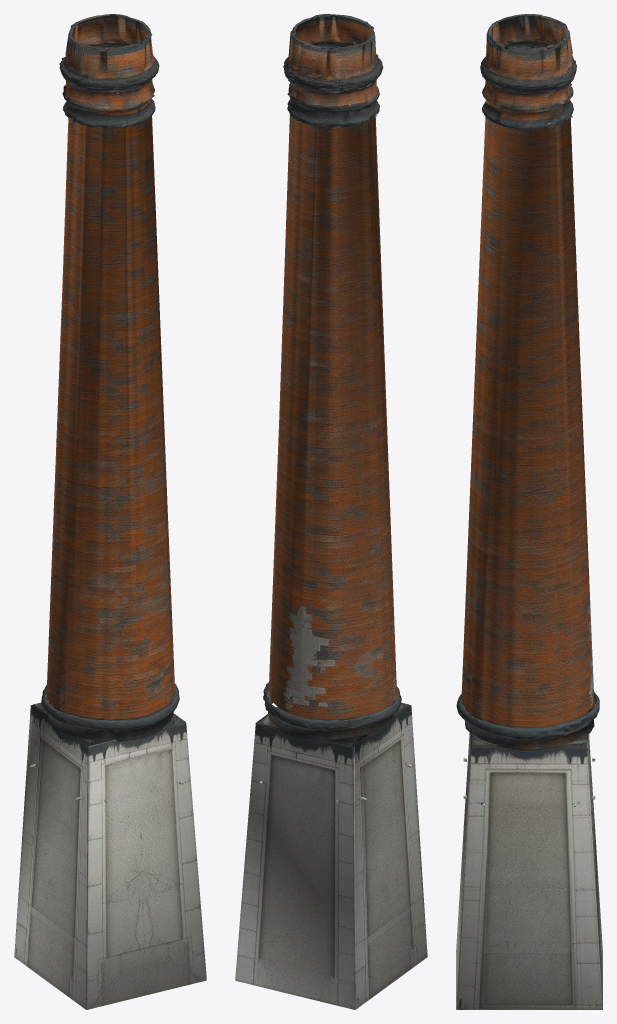
Rendered from smokestack.glb.
3 views of the same model, side by side, from view 1: azimuth 30°, elevation 25°; view 2: azimuth 150°, elevation 25°; view 3: azimuth 270°, elevation 25° (orthographic).
Bounding box in the file's own units: 4.09 × 30 × 4.21.
1 material, 1 textured.
